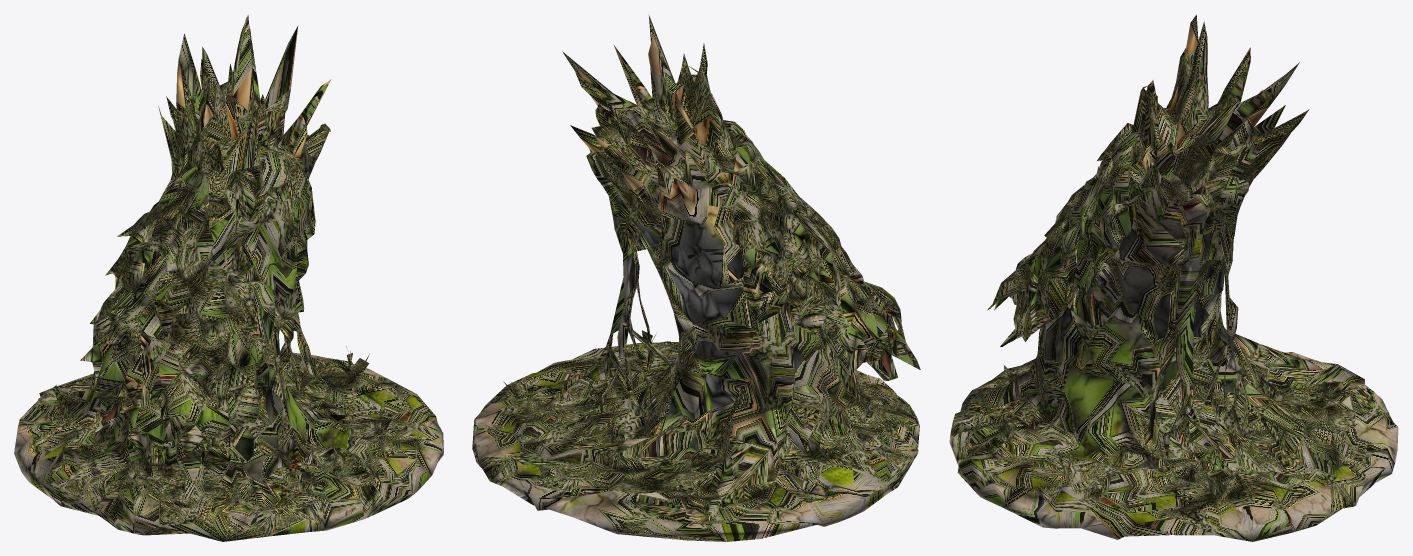
Rendered from scale-tree.glb.
3 views of the same model, side by side, from view 1: azimuth 30°, elevation 25°; view 2: azimuth 150°, elevation 25°; view 3: azimuth 270°, elevation 25° (orthographic). The views are drawn at different scales.
Size of the model in its own units: 3.68 by 4 by 3.62.
1 material, 1 textured.
